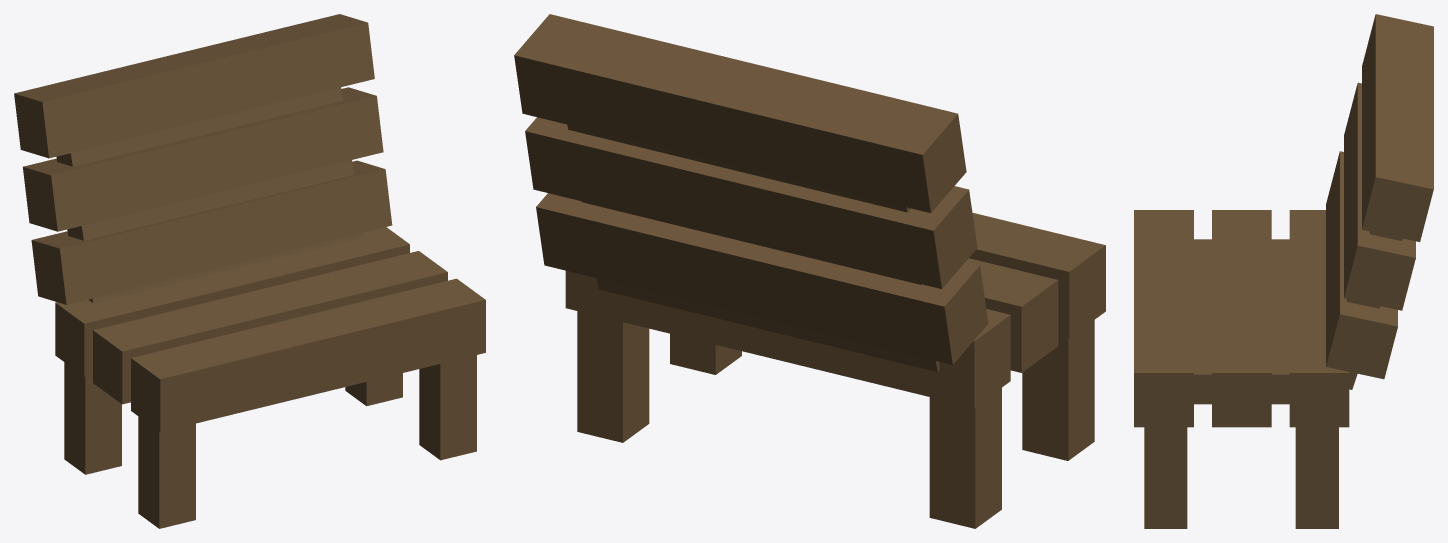
The model's file is Bench.fbx.
3 renders of one model, left to right at view 1: azimuth 30°, elevation 25°; view 2: azimuth 150°, elevation 25°; view 3: azimuth 270°, elevation 25°, orthographic. The views are drawn at different scales.
Visible parts, largest first — view 1: Cube.006; view 2: Cube.006; view 3: Cube.006.
Boxes of the visible parts, x1,y1,x2,y2 form: Cube.006: [14, 14, 485, 528]; Cube.006: [514, 14, 1105, 528]; Cube.006: [1134, 14, 1433, 528].
Size of the model in its own units: 198 by 201 by 154.
